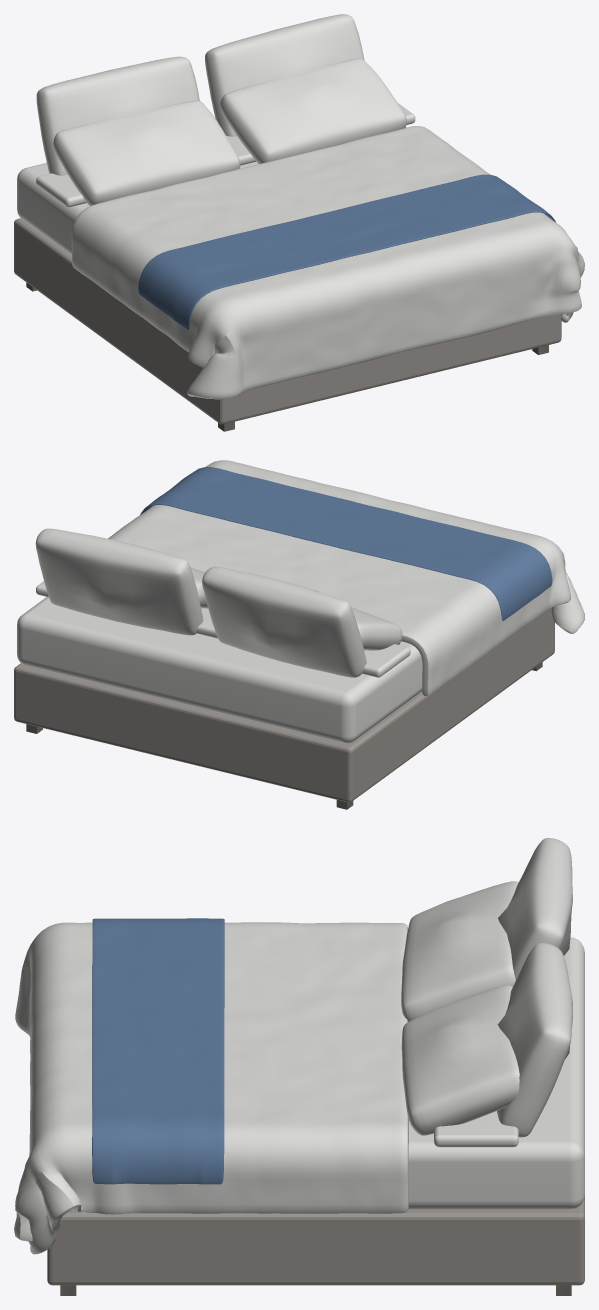
Rendered from hotel-king-bed.glb.
3 views of the same model, one above another, from view 1: azimuth 30°, elevation 25°; view 2: azimuth 150°, elevation 25°; view 3: azimuth 270°, elevation 25° (orthographic). The views are drawn at different scales.
Parts seen in each view (by area): view 1: duvet, scarf, base, pillow2, pillow3, pillow0, pillow1, mattress, fold; view 2: base, duvet, mattress, scarf, pillow1, pillow0, fold, pillow2; view 3: duvet, base, scarf, mattress, pillow3, pillow2, pillow1, pillow0, fold.
Part boxes in pixels (x1,y1,x2,y2): duvet: (71, 126, 584, 399); scarf: (138, 174, 555, 329); base: (14, 218, 561, 424); pillow2: (53, 100, 240, 205); pillow3: (220, 58, 406, 163); pillow0: (36, 56, 199, 175); pillow1: (205, 14, 364, 136); mattress: (17, 127, 406, 255); fold: (36, 103, 415, 207); base: (14, 607, 554, 802); duvet: (108, 460, 584, 696); mattress: (17, 597, 422, 743); scarf: (140, 467, 552, 620); pillow1: (35, 528, 203, 635); pillow0: (202, 566, 366, 677); fold: (36, 581, 410, 677); pillow2: (314, 590, 402, 650); duvet: (14, 922, 408, 1254); base: (47, 1195, 584, 1285); scarf: (92, 918, 224, 1184); mattress: (408, 937, 584, 1209); pillow3: (401, 985, 519, 1135); pillow2: (401, 881, 518, 1021); pillow1: (497, 943, 572, 1137); pillow0: (498, 838, 572, 980); fold: (434, 1111, 518, 1147).
Bounding box in the file's own units: 2.24 × 1.1 × 2.16.
4 materials, 1 textured.
